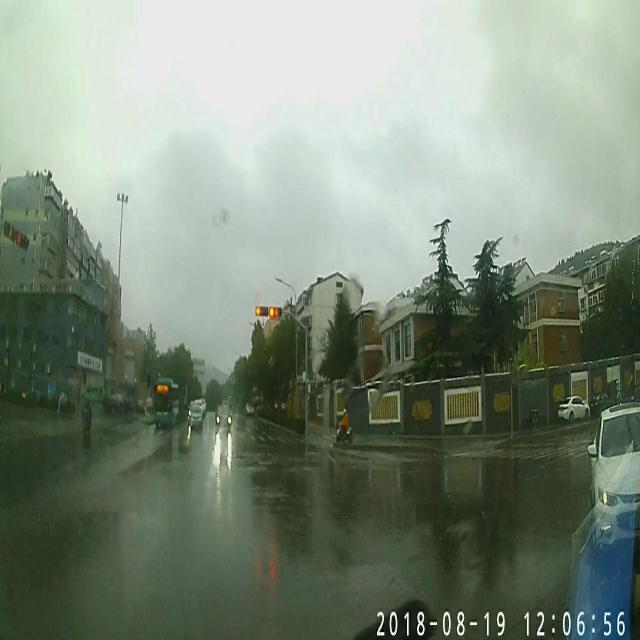car: (587, 406, 640, 540), (559, 396, 591, 422), (215, 406, 232, 434), (188, 399, 203, 429), (246, 408, 254, 418)
